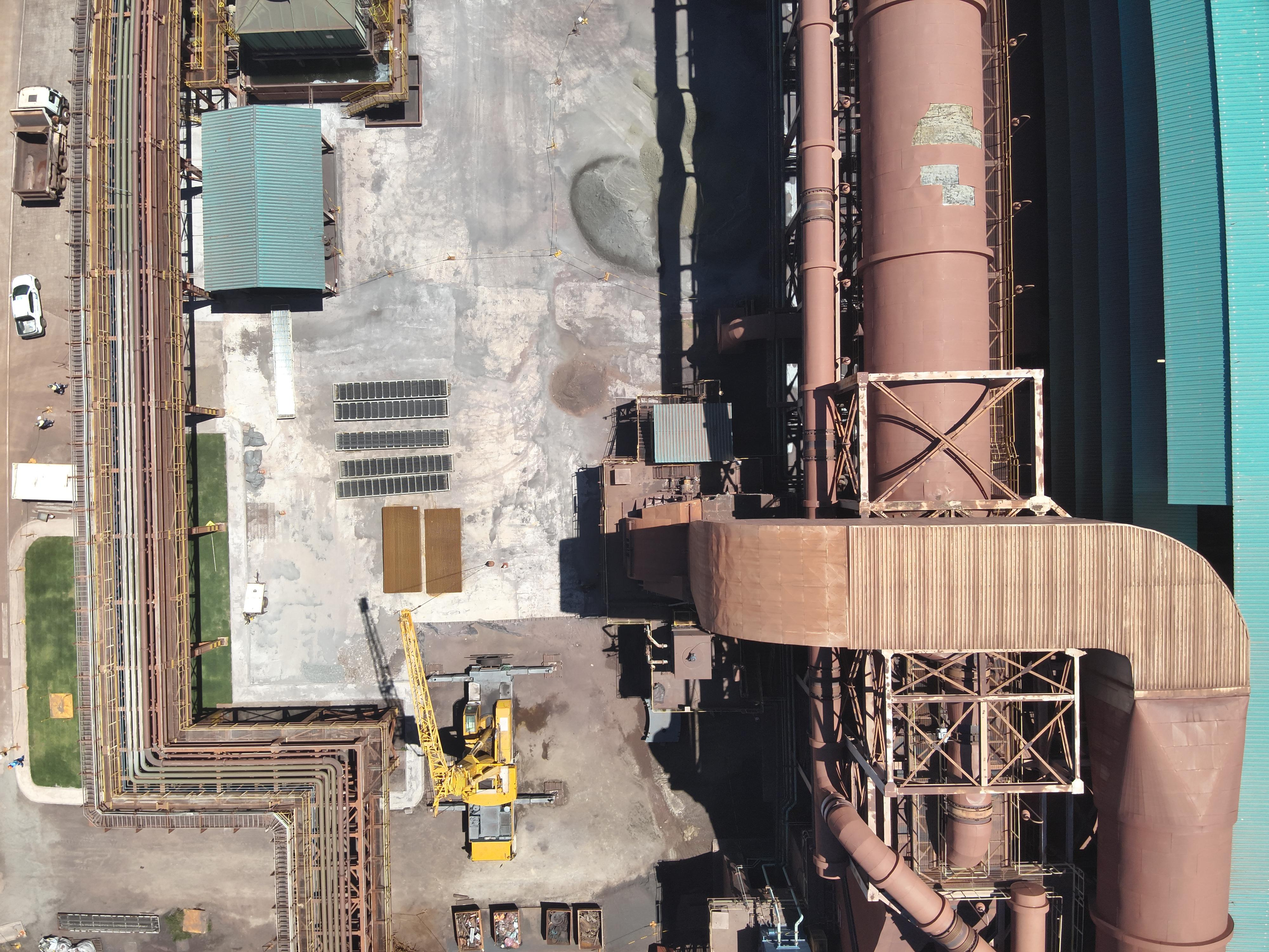Failures: (912, 102, 983, 152), (919, 163, 976, 210), (700, 484, 772, 517)
